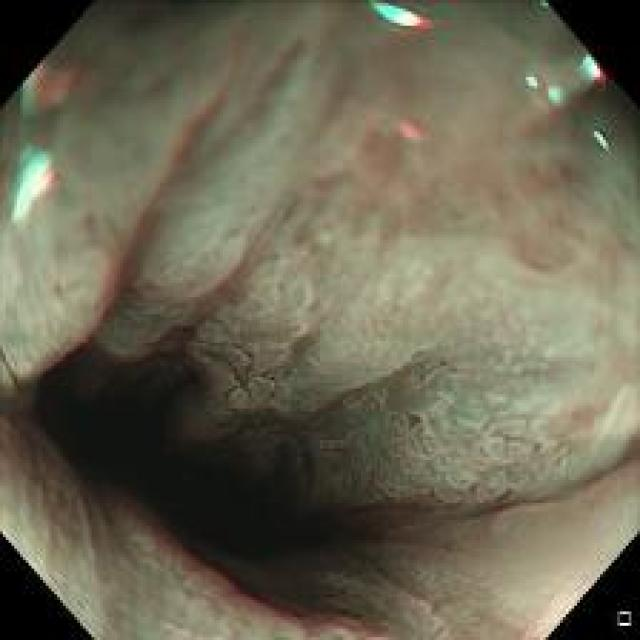blur: (0, 1, 638, 374), (481, 374, 639, 504)
color misalignment: (18, 62, 100, 119), (8, 146, 55, 224), (369, 0, 434, 39), (520, 71, 566, 108), (579, 48, 608, 89), (392, 114, 425, 146), (588, 124, 612, 155)
contrast: (28, 366, 369, 614)
